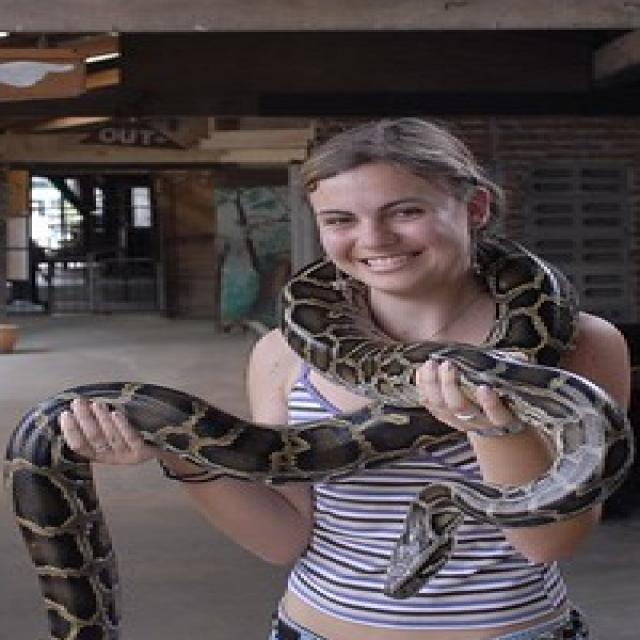Snake: (0, 230, 637, 640)
